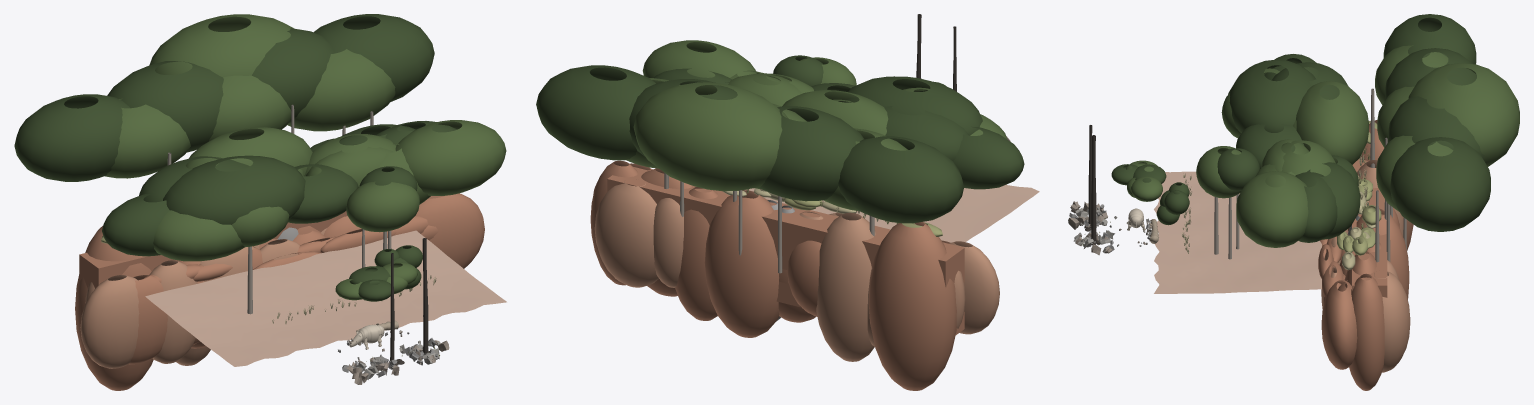
3 renders of one model, left to right at view 1: azimuth 30°, elevation 25°; view 2: azimuth 150°, elevation 25°; view 3: azimuth 270°, elevation 25°, orthographic. The views are drawn at different scales.
Parts seen in each view (by area): view 1: SandField.001, Canopy5.001, CanopyLow3.001, Canopy6.001, CanopyLow4.001, Canopy7.001, Canopy1.001, Canopy4.001, WallBlobF0.001, Canopy0.001, Canopy3.001, Canopy2.001 (+28 smaller); view 2: Canopy6.001, WallBlobB1.001, WallBlobB9.001, Canopy5.001, Canopy7.001, WallBlobB4.001, Canopy1.001, WallSlab.001, WallBlobB14.001, CanopyLow3.001, SandField.001, CanopyLow7.001 (+18 smaller); view 3: SandField.001, Canopy7.001, Canopy6.001, CanopyLow4.001, CanopyLow3.001, CanopyLow12.001, WallBlobB15.001, Canopy5.001, Canopy3.001, WallBlobF20.001, WallBlobB14.001, Canopy1.001 (+24 smaller).
Part boxes in pixels (x1=…): SandField.001: x1=145, y1=230, x2=506, y2=366; Canopy5.001: x1=14, y1=94, x2=129, y2=181; CanopyLow3.001: x1=163, y1=155, x2=305, y2=224; Canopy6.001: x1=149, y1=14, x2=293, y2=77; CanopyLow4.001: x1=395, y1=120, x2=506, y2=195; Canopy7.001: x1=313, y1=14, x2=434, y2=101; Canopy1.001: x1=107, y1=61, x2=223, y2=152; Canopy4.001: x1=287, y1=49, x2=395, y2=131; WallBlobF0.001: x1=80, y1=275, x2=139, y2=368; Canopy0.001: x1=105, y1=98, x2=190, y2=178; Canopy3.001: x1=252, y1=28, x2=335, y2=122; Canopy2.001: x1=209, y1=75, x2=291, y2=140; Canopy6.001: x1=633, y1=82, x2=788, y2=191; WallBlobB1.001: x1=868, y1=222, x2=956, y2=390; WallBlobB9.001: x1=704, y1=190, x2=779, y2=337; Canopy5.001: x1=838, y1=136, x2=963, y2=223; Canopy7.001: x1=536, y1=65, x2=655, y2=160; WallBlobB4.001: x1=816, y1=212, x2=875, y2=361; Canopy1.001: x1=758, y1=106, x2=863, y2=201; WallSlab.001: x1=607, y1=167, x2=964, y2=335; WallBlobB14.001: x1=594, y1=179, x2=658, y2=287; CanopyLow3.001: x1=842, y1=76, x2=982, y2=135; SandField.001: x1=745, y1=184, x2=1039, y2=242; CanopyLow7.001: x1=953, y1=126, x2=1024, y2=189; SandField.001: x1=1154, y1=171, x2=1321, y2=293; Canopy7.001: x1=1390, y1=137, x2=1490, y2=231; Canopy6.001: x1=1408, y1=63, x2=1519, y2=166; CanopyLow4.001: x1=1236, y1=171, x2=1308, y2=247; CanopyLow3.001: x1=1229, y1=59, x2=1315, y2=133; CanopyLow12.001: x1=1296, y1=81, x2=1368, y2=164; WallBlobB15.001: x1=1349, y1=273, x2=1384, y2=390; Canopy5.001: x1=1383, y1=14, x2=1476, y2=64; Canopy3.001: x1=1388, y1=96, x2=1485, y2=162; WallBlobF20.001: x1=1321, y1=280, x2=1357, y2=369; WallBlobB14.001: x1=1374, y1=271, x2=1410, y2=372; Canopy1.001: x1=1385, y1=48, x2=1476, y2=100.
Bounding box in the file's own units: 41.49 × 28.03 × 42.3.
